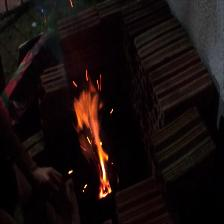fire: (76, 85, 111, 194)
